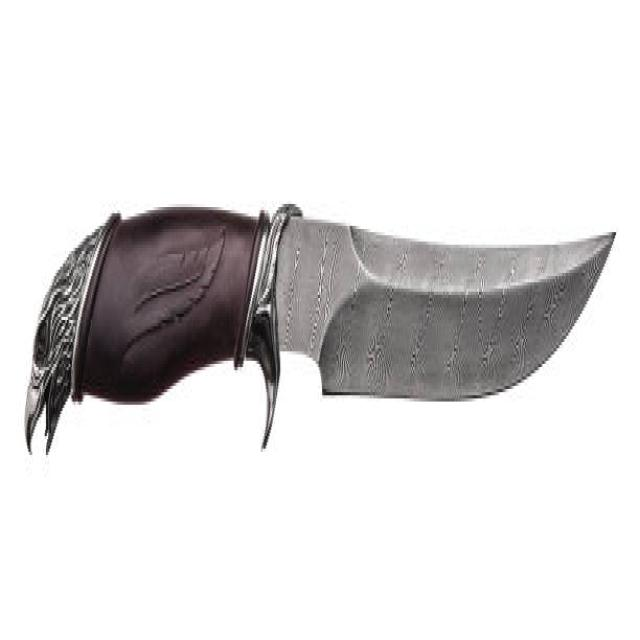knife: (21, 147, 640, 512)
